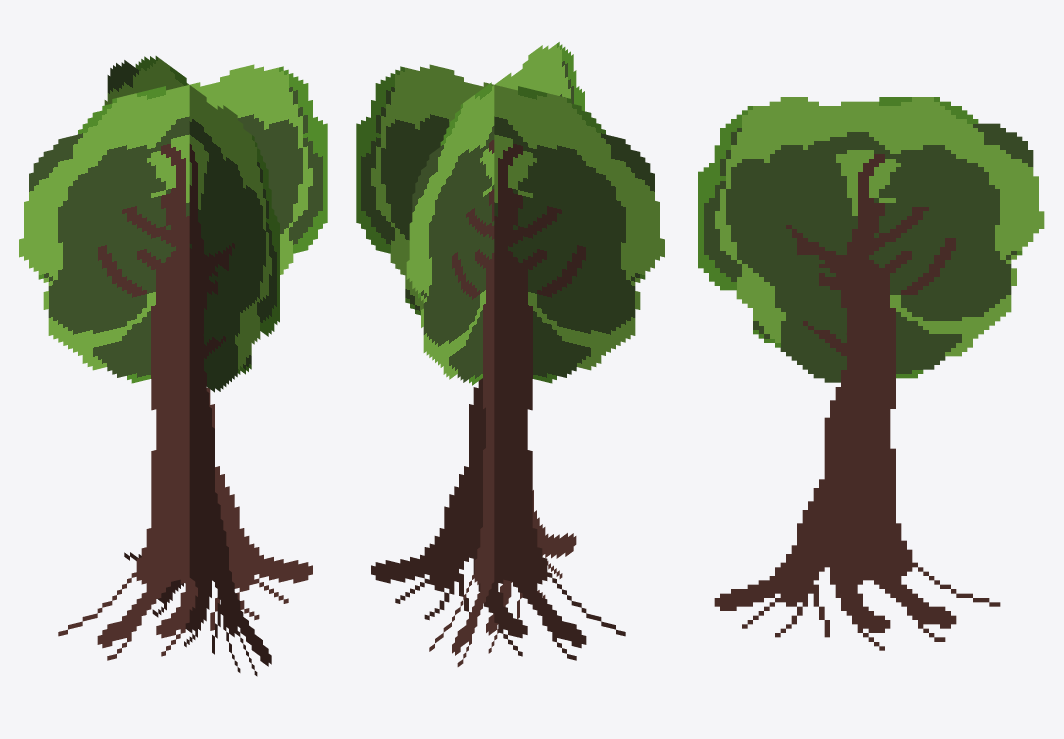
Rendered from tree.glb.
3 views of the same model, side by side, from view 1: azimuth 30°, elevation 25°; view 2: azimuth 150°, elevation 25°; view 3: azimuth 270°, elevation 25° (orthographic). The views are drawn at different scales.
Parts seen in each view (by area): view 1: Plane, Plane.001; view 2: Plane, Plane.001; view 3: Plane.001.
Boxes of the visible parts, x1,y1,x2,y2 form: Plane: [19, 64, 327, 660]; Plane.001: [104, 56, 279, 676]; Plane: [356, 64, 664, 660]; Plane.001: [406, 42, 584, 666]; Plane.001: [698, 97, 1044, 650].
Bounding box in the file's own units: 3.54 × 6.24 × 3.54.
Materials: 1 (1 with a texture image).
